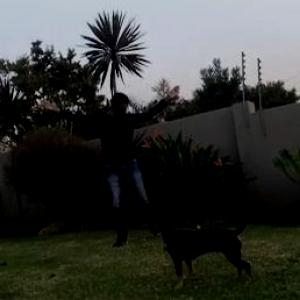takeoff: (39, 83, 183, 236)
